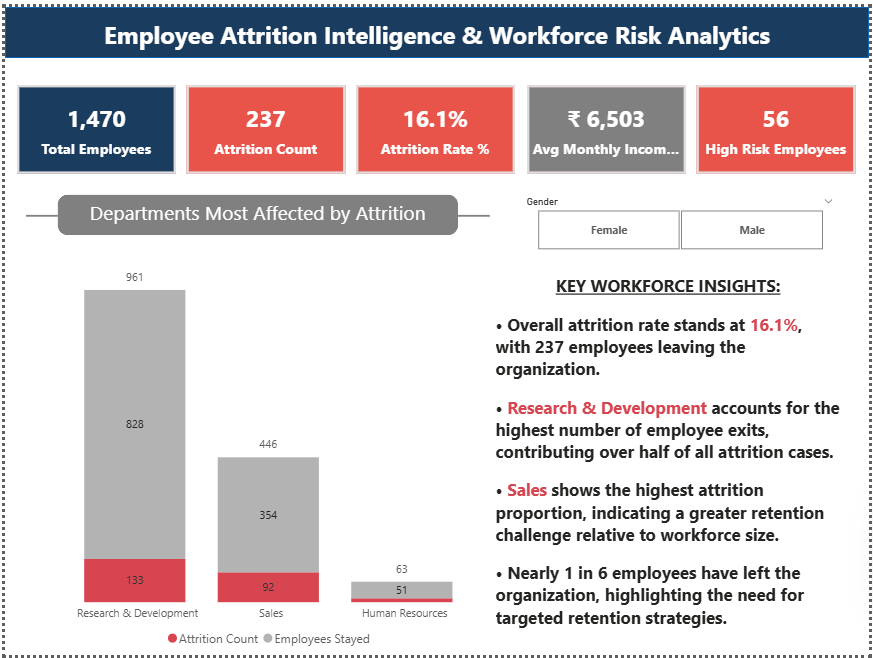

The dashboard page shown, as its layout file describes it:
{"tool":"powerbi","page":{"name":"Executive Overview","canvas":[960,720],"ordinal":0},"visuals":[{"type":"shape","box":[0,0,960,56.7],"z":0},{"type":"textbox","box":[0,0,960,56.7],"z":1000},{"type":"card","fields":{"Values":["HR_Data.Total Employees"]},"box":[13.3,86.7,176.7,98.3],"z":2000},{"type":"card","fields":{"Values":["HR_Data.Attrition Count"]},"box":[201.7,86.7,176.7,98.3],"z":3000},{"type":"card","fields":{"Values":["HR_Data.Attrition Rate %"]},"box":[390.6,86.7,176.7,98.3],"z":4000},{"type":"card","fields":{"Values":["HR_Data.Avg Monthly Income"]},"box":[579.4,86.7,176.7,98.3],"z":5000},{"type":"card","fields":{"Values":["HR_Data.High Risk Employees"]},"box":[768.3,86.7,176.7,98.3],"z":6000},{"type":"lineStackedColumnComboChart","fields":{"Category":["HR_Data.Department"],"Y":["HR_Data.Attrition Count","HR_Data.Employees Stayed"]},"box":[22.7,276.9,544.1,443.7],"z":7000},{"type":"shape","box":[58.3,208.9,445.3,45.3],"z":8000},{"type":"textbox","box":[58.3,208.3,445,46.7],"z":9000},{"type":"shape","box":[503.6,186.2,35.6,90.7],"z":10000},{"type":"shape","box":[22.7,186.2,35.6,90.7],"z":11000},{"type":"textbox","box":[539.2,291.5,393.5,429.1],"z":12000},{"type":"slicer","fields":{"Values":["HR_Data.Gender"]},"box":[566.7,205.6,365.9,71.2],"z":13000}]}

Visuals, with their boxes in screenshot pixels (x1, y1, x2, y2), scaled from the page's 960x720 canvas onto the 873x658 screenshot:
shape: (x1=0, y1=0, x2=872, y2=52)
textbox: (x1=0, y1=0, x2=872, y2=52)
card - HR_Data.Total Employees: (x1=12, y1=79, x2=173, y2=169)
card - HR_Data.Attrition Count: (x1=183, y1=79, x2=344, y2=169)
card - HR_Data.Attrition Rate %: (x1=355, y1=79, x2=516, y2=169)
card - HR_Data.Avg Monthly Income: (x1=527, y1=79, x2=688, y2=169)
card - HR_Data.High Risk Employees: (x1=699, y1=79, x2=859, y2=169)
lineStackedColumnComboChart - HR_Data.Department x HR_Data.Attrition Count: (x1=21, y1=253, x2=515, y2=657)
shape: (x1=53, y1=191, x2=458, y2=232)
textbox: (x1=53, y1=190, x2=458, y2=233)
shape: (x1=458, y1=170, x2=490, y2=253)
shape: (x1=21, y1=170, x2=53, y2=253)
textbox: (x1=490, y1=266, x2=848, y2=657)
slicer - HR_Data.Gender: (x1=515, y1=188, x2=848, y2=253)
